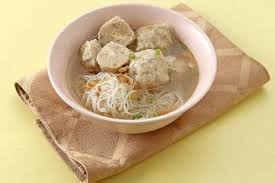bakso: (81, 21, 186, 112)
